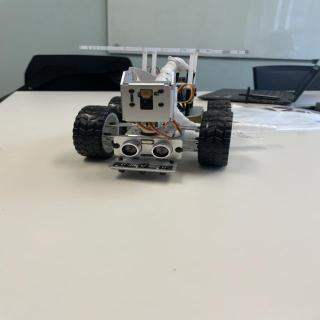vehicle: (72, 37, 241, 181)
